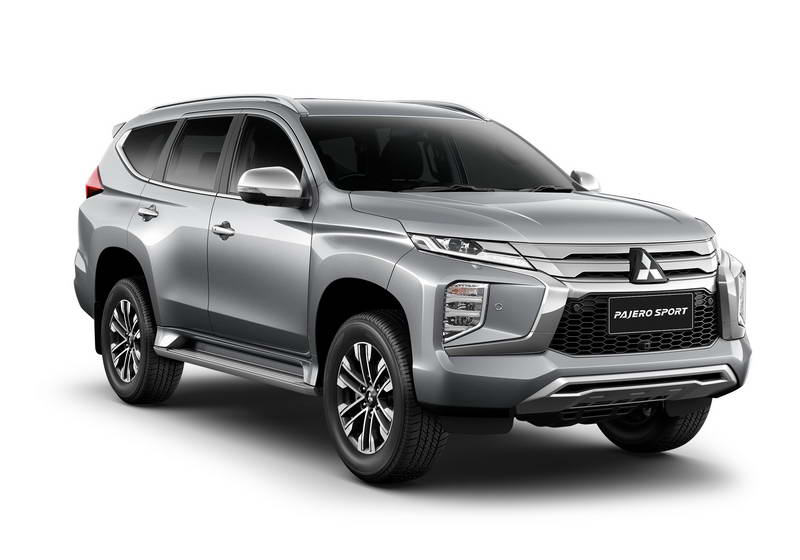pickup: (73, 91, 754, 486)
